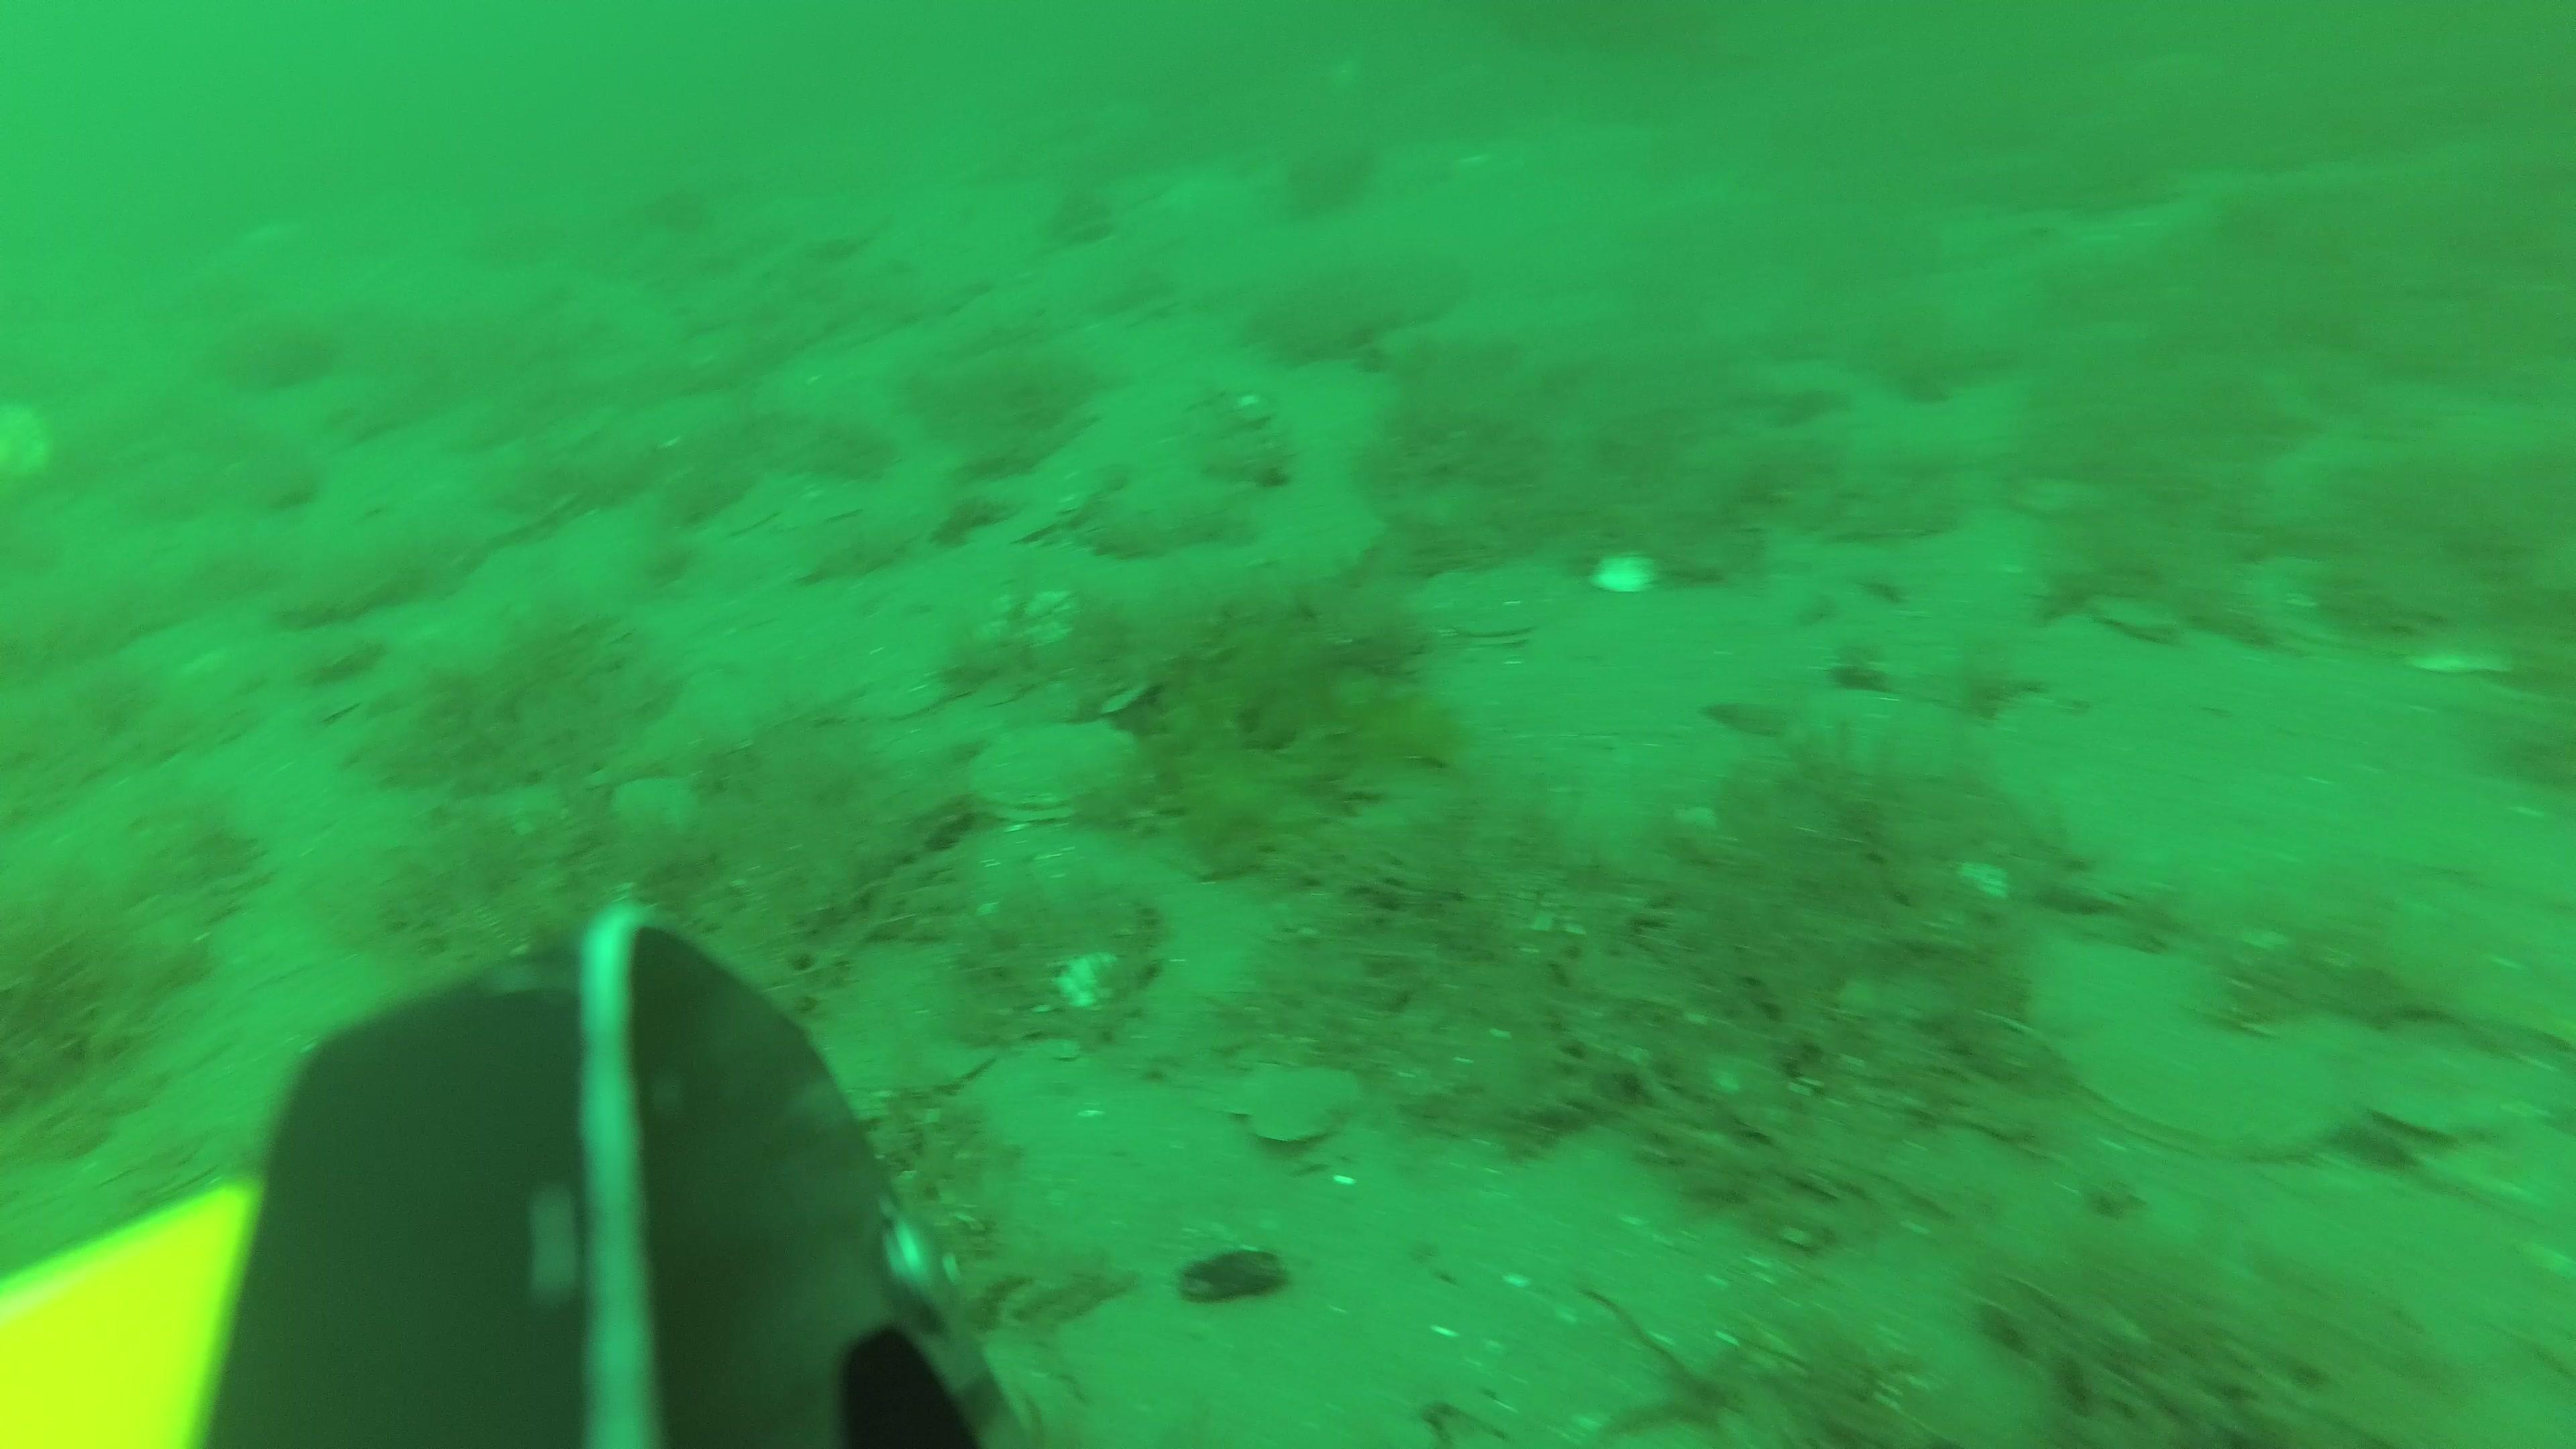scallop: (2070, 1016, 2350, 1161), (971, 725, 1136, 823), (1237, 1060, 1364, 1148), (0, 400, 58, 499), (1454, 602, 1537, 648)
